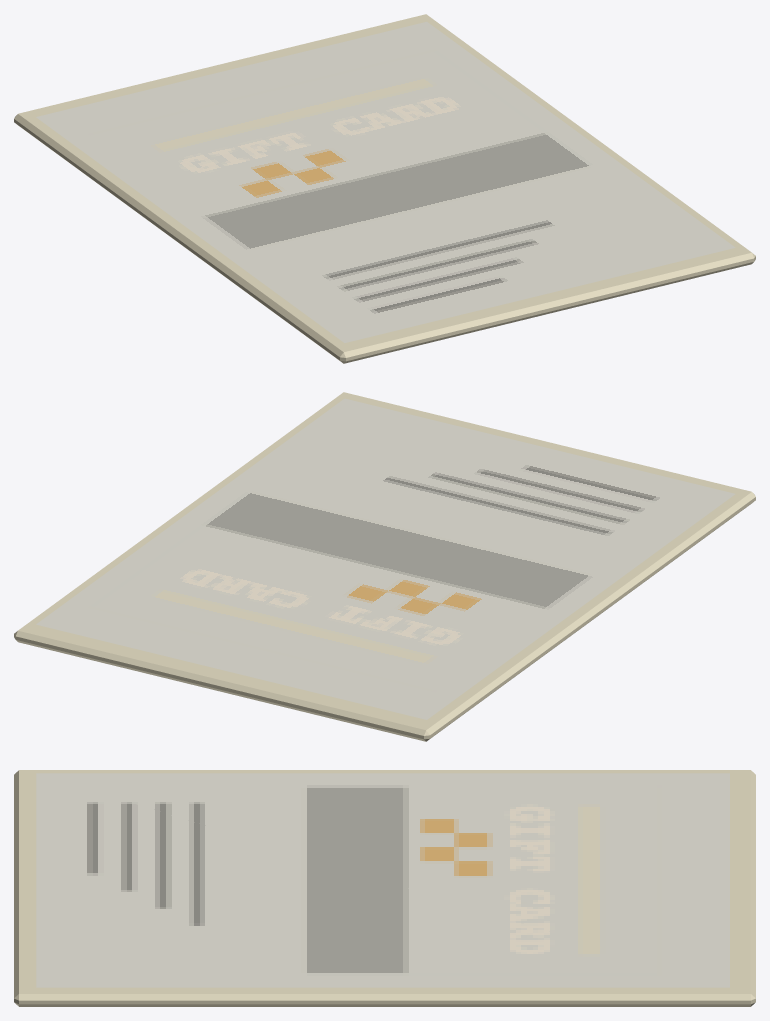
Rendered from gift_card.glb.
3 views of the same model, one above another, from view 1: azimuth 30°, elevation 25°; view 2: azimuth 150°, elevation 25°; view 3: azimuth 270°, elevation 25° (orthographic). The views are drawn at different scales.
Parts seen in each view (by area): view 1: block_printed face, block_paper or card stock; view 2: block_printed face, block_paper or card stock; view 3: block_printed face, block_paper or card stock.
Part boxes in pixels (bbox=[...]): block_printed face: bbox=[36, 21, 735, 342]; block_paper or card stock: bbox=[14, 14, 755, 363]; block_printed face: bbox=[36, 398, 735, 719]; block_paper or card stock: bbox=[14, 392, 755, 741]; block_printed face: bbox=[36, 773, 729, 987]; block_paper or card stock: bbox=[14, 770, 755, 1006].
Bounding box in the file's own units: 0.0582 × 0.00173 × 0.08.
Materials: 1 (1 with a texture image).
